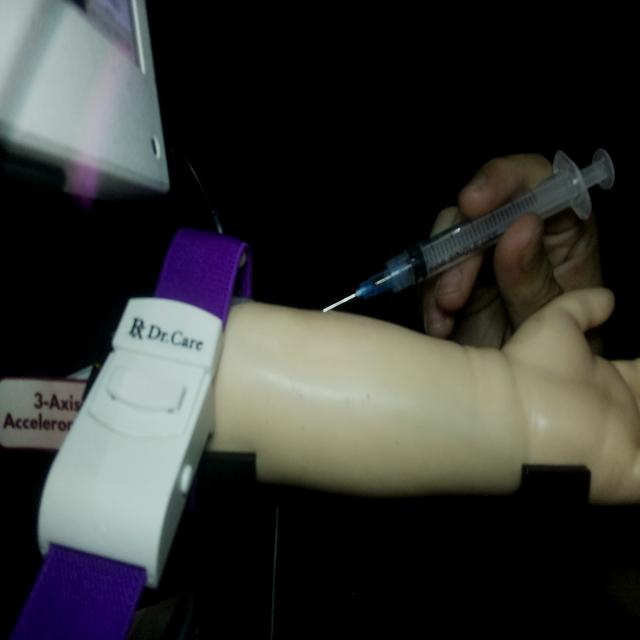18 degrees: (320, 143, 616, 315)
